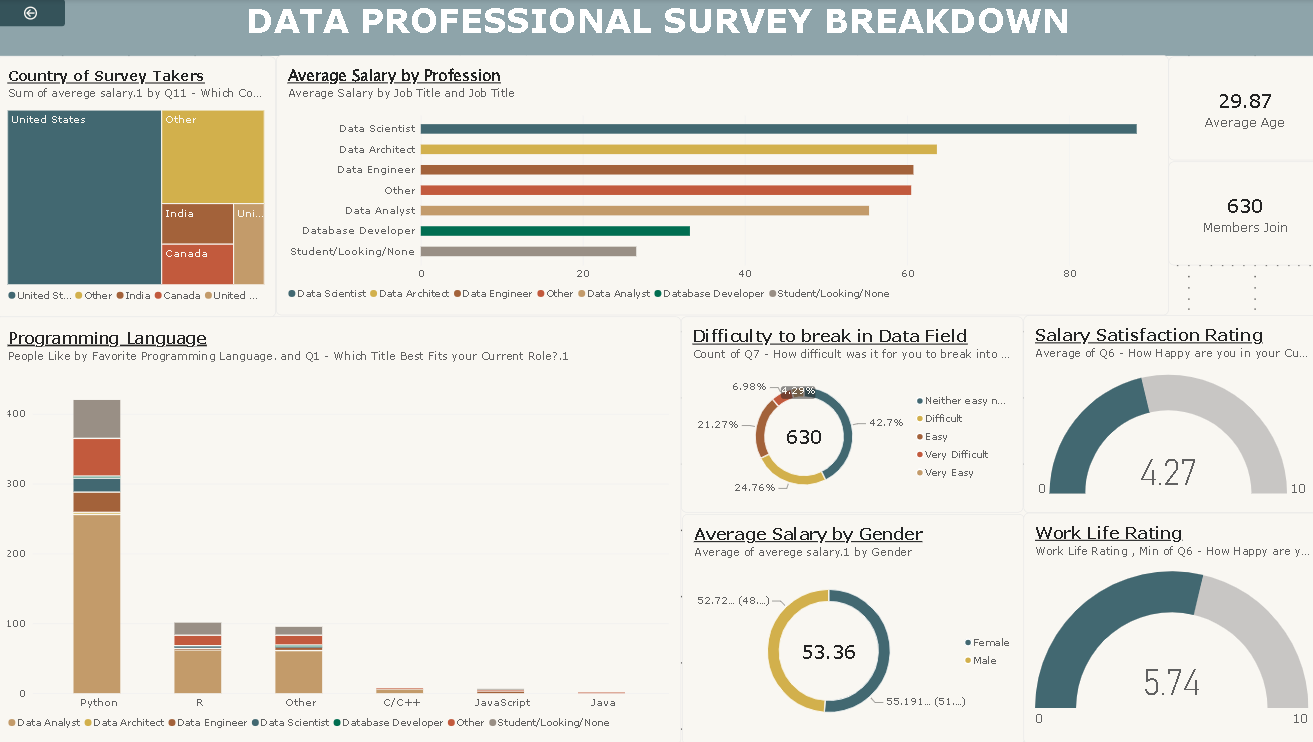

The page's visual inventory and layout, read from the dashboard file:
{"tool":"powerbi","page":{"name":"Page 1","canvas":[1920,1080],"ordinal":0},"visuals":[{"type":"textbox","box":[0,0,1920,82.5],"z":0},{"type":"card","fields":{"Values":["Count(Data Professional Survey.Unique ID)"]},"box":[1698.4,234.9,222.5,150],"z":1000},{"type":"actionButton","box":[0,0,100,40],"z":2000},{"type":"card","fields":{"Values":["Avg(Data Professional Survey.Q10 - Current Age)"]},"box":[1698.3,83.3,222.5,150],"z":3000},{"type":"barChart","title":"Average Salary by Profession","fields":{"Category":["Data Professional Survey.Q1 - Which Title Best Fits your Current Role?.1"],"Series":["Data Professional Survey.Q1 - Which Title Best Fits your Current Role?.1"],"Y":["Avg(Data Professional Survey.averege salary.1)"]},"box":[405.2,81.9,1293.2,377.2],"z":4000},{"type":"columnChart","title":"Programming Language ","fields":{"Category":["Data Professional Survey.Q5 - Favorite Programming Language.1"],"Series":["Data Professional Survey.Q1 - Which Title Best Fits your Current Role?.1"],"Y":["CountNonNull(Data Professional Survey.Unique ID)"]},"box":[0,460,992.5,620],"z":5000},{"type":"treemap","title":"Country of Survey Takers ","fields":{"Group":["Data Professional Survey.Q11 - Which Country do you live in?.1"],"Values":["Sum(Data Professional Survey.averege salary.1)"]},"box":[0,82.8,405.9,377.6],"z":6000},{"type":"gauge","title":"Work Life Rating ","fields":{"MaxValue":["Max(Data Professional Survey.Q6 - How Happy are you in your Current Position with the following? (Work/Life Balance))"],"MinValue":["Min(Data Professional Survey.Q6 - How Happy are you in your Current Position with the following? (Work/Life Balance))"],"Y":["Avg(Data Professional Survey.Q6 - How Happy are you in your Current Position with the following? (Work/Life Balance))"]},"box":[1489.7,745,430,335],"z":7000,"group":"g1"},{"type":"gauge","title":"Salary Satisfaction Rating ","fields":{"MaxValue":["Max(Data Professional Survey.Q6 - How Happy are you in your Current Position with the following? (Salary))"],"MinValue":["Min(Data Professional Survey.Q6 - How Happy are you in your Current Position with the following? (Salary))"],"Y":["Avg(Data Professional Survey.Q6 - How Happy are you in your Current Position with the following? (Salary))"]},"box":[1488.9,459.1,431.1,286.7],"z":8000,"group":"g1"},{"type":"donutChart","title":"Average Salary by Gender ","fields":{"Category":["Data Professional Survey.Q9 - Male/Female?"],"Y":["Avg(Data Professional Survey.averege salary.1)"]},"box":[994,746,496,334],"z":9000},{"type":"donutChart","title":"Difficulty to break in Data Field ","fields":{"Category":["Data Professional Survey.Q7 - How difficult was it for you to break into Data?"],"Y":["CountNonNull(Data Professional Survey.Q7 - How difficult was it for you to break into Data?)"]},"box":[992,460,496,284],"z":10000},{"type":"group","id":"g1","title":"Group 1","box":[1488.9,459.1,431.1,620.9],"z":10001}]}

Visuals, with their boxes in screenshot pixels (x1, y1, x2, y2), scaled from the page's 1920x1080 canvas onto the 1313x742 screenshot:
textbox: <region>0, 0, 1312, 57</region>
card - Count(Data Professional Survey.Unique ID): <region>1161, 161, 1312, 264</region>
actionButton: <region>0, 0, 68, 27</region>
card - Avg(Data Professional Survey.Q10 - Current Age): <region>1161, 57, 1312, 160</region>
"Average Salary by Profession" barChart: <region>277, 56, 1161, 315</region>
"Programming Language " columnChart: <region>0, 316, 679, 741</region>
"Country of Survey Takers " treemap: <region>0, 57, 278, 316</region>
"Work Life Rating " gauge: <region>1019, 512, 1312, 741</region>
"Salary Satisfaction Rating " gauge: <region>1018, 315, 1312, 512</region>
"Average Salary by Gender " donutChart: <region>680, 513, 1019, 741</region>
"Difficulty to break in Data Field " donutChart: <region>678, 316, 1018, 511</region>
"Group 1" group: <region>1018, 315, 1312, 741</region>
